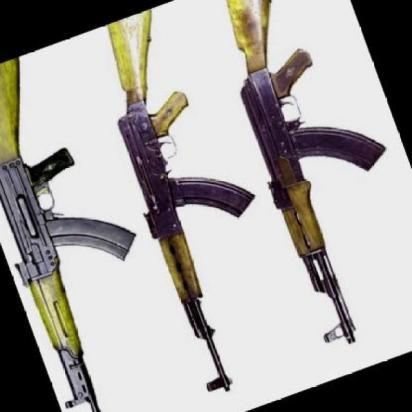Gun: (107, 13, 257, 394), (226, 0, 385, 344), (0, 54, 135, 411)
